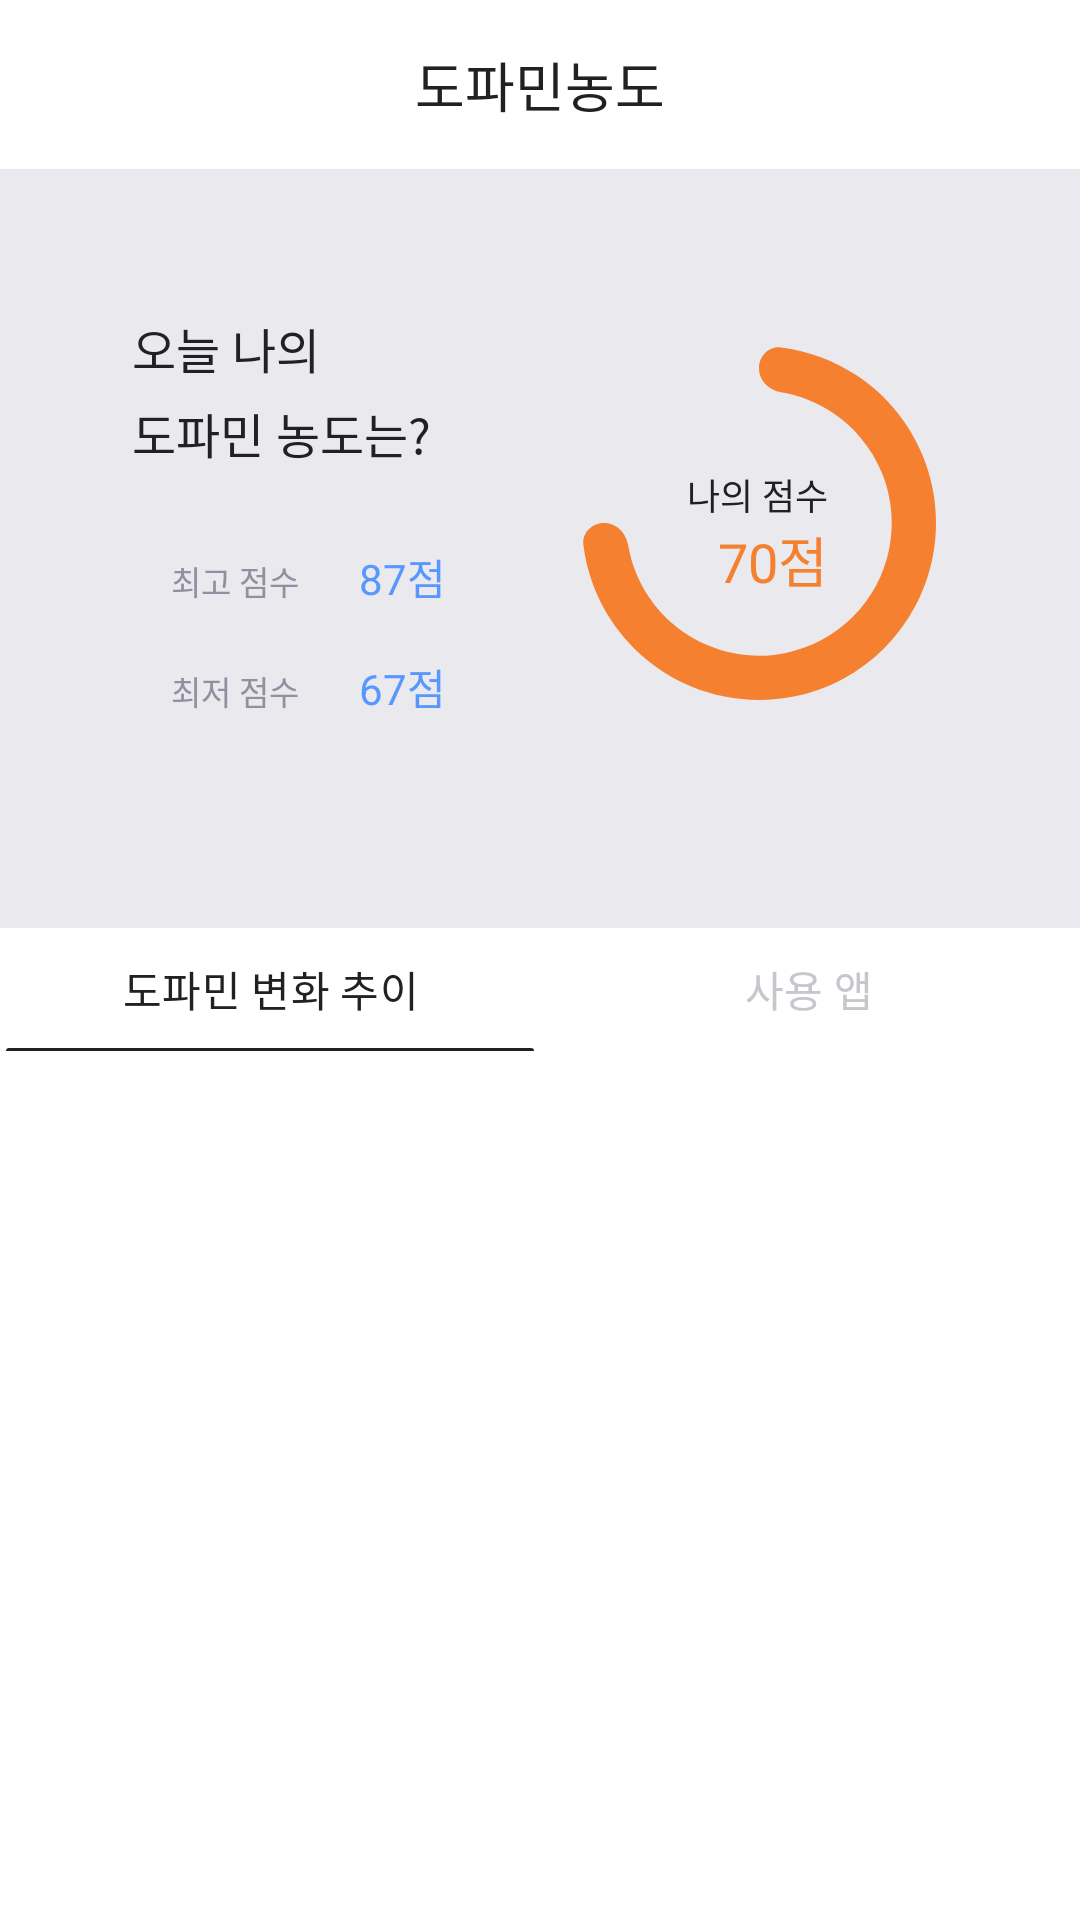

Screen size 1080px x 1920px. Icon name, then its box in pixels as region(x1, y1, x2, y2):
graph: region(583, 347, 936, 700)
